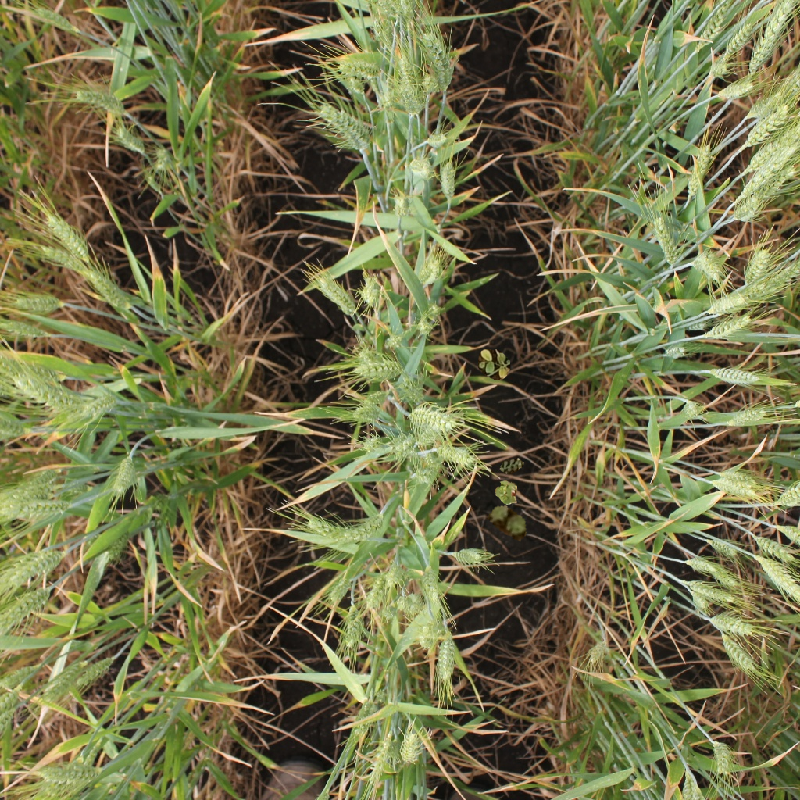spikelet: (728, 161, 799, 222), (1, 362, 81, 411), (745, 1, 800, 72), (47, 382, 124, 432), (98, 502, 156, 564), (313, 99, 375, 150), (1, 542, 64, 592), (744, 122, 800, 177), (79, 261, 137, 313), (746, 65, 799, 119), (743, 253, 800, 303), (1, 468, 60, 516), (306, 265, 359, 317), (300, 510, 365, 551), (42, 209, 92, 260), (1, 586, 52, 635), (418, 27, 456, 92), (742, 102, 793, 148), (756, 553, 800, 605), (41, 656, 90, 701), (34, 757, 100, 789), (684, 553, 742, 589), (393, 55, 427, 116), (363, 730, 398, 787), (1, 495, 70, 523), (683, 141, 715, 199), (350, 347, 404, 381), (106, 452, 145, 498), (28, 774, 97, 800), (649, 212, 682, 266), (718, 632, 759, 675), (334, 49, 387, 82), (72, 84, 126, 115), (361, 564, 398, 609), (407, 402, 459, 434), (711, 466, 761, 498), (702, 311, 754, 341), (691, 244, 729, 284), (703, 287, 754, 316), (741, 244, 775, 287), (409, 609, 444, 650), (684, 577, 737, 604), (751, 533, 799, 562), (433, 632, 460, 683), (408, 300, 444, 337), (9, 290, 64, 314), (693, 9, 726, 49), (402, 151, 435, 191), (720, 22, 756, 57), (708, 609, 756, 635), (413, 249, 446, 286), (434, 442, 479, 469), (108, 123, 147, 154), (392, 372, 428, 405), (709, 364, 760, 386), (397, 728, 426, 766), (1, 317, 49, 339), (715, 76, 757, 101), (357, 272, 385, 308), (368, 1, 418, 21), (726, 404, 769, 427), (709, 738, 735, 776), (450, 545, 494, 567), (678, 768, 706, 800), (1, 408, 28, 441), (150, 142, 177, 174), (1, 683, 25, 719), (773, 475, 799, 508), (705, 51, 734, 80), (394, 589, 425, 616), (583, 638, 612, 666), (341, 612, 361, 649), (494, 479, 520, 505), (707, 535, 739, 556), (497, 455, 524, 472)
weed: (484, 501, 534, 543), (478, 349, 510, 380), (498, 452, 526, 480), (495, 480, 517, 505)
